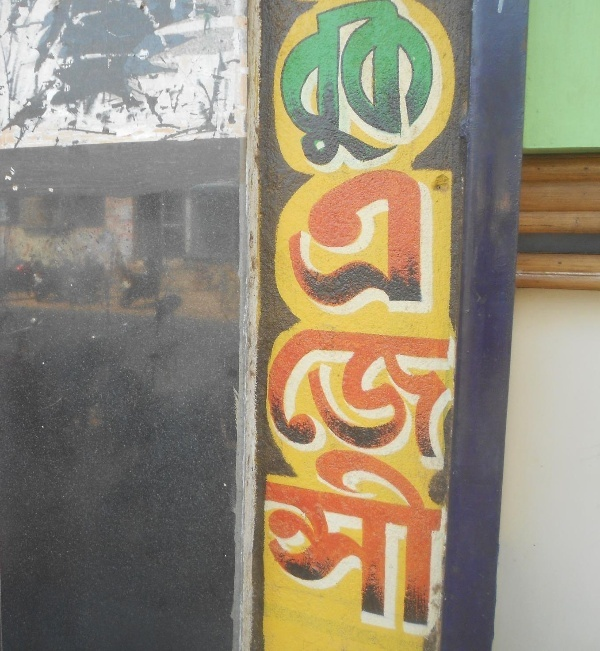text: (305, 171, 320, 633), (321, 171, 336, 633), (337, 171, 352, 633), (353, 171, 368, 633), (369, 171, 384, 633), (385, 171, 400, 633), (401, 171, 416, 633), (417, 171, 432, 633), (433, 171, 448, 633), (449, 171, 459, 633), (298, 171, 304, 633), (289, 1, 304, 169), (305, 1, 320, 169), (321, 1, 336, 169), (337, 1, 352, 169), (353, 1, 368, 169), (369, 1, 384, 169), (385, 1, 400, 169), (401, 1, 416, 169), (417, 1, 432, 169), (433, 1, 447, 169), (277, 1, 288, 169)
